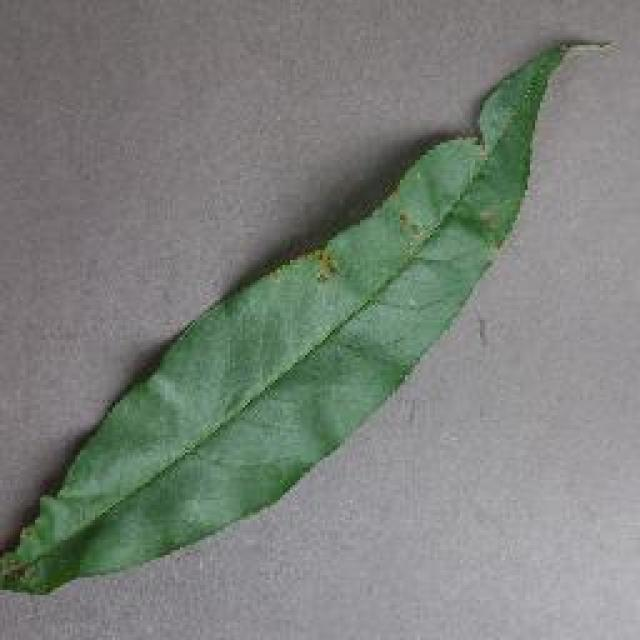Peach_Bacterial_Spot: (248, 205, 455, 338)
